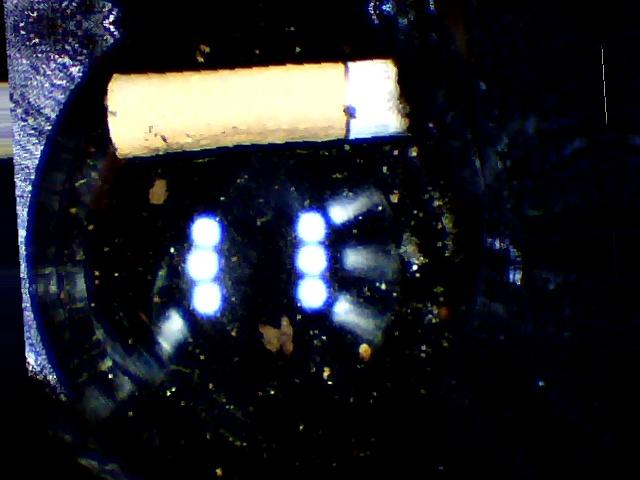megot: (91, 49, 419, 170)
